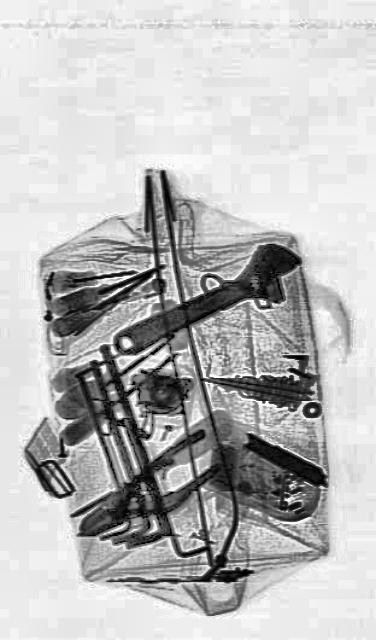Pliers: (78, 422, 218, 558)
Wrench: (107, 226, 307, 378)
